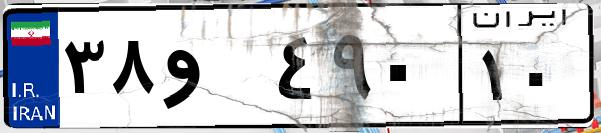0: (385, 28, 445, 110), (525, 38, 570, 115)
1: (475, 38, 525, 113)
3: (57, 26, 110, 100)
4: (270, 28, 330, 110)
8: (110, 28, 158, 98)
9: (330, 28, 385, 110)
و: (158, 20, 270, 120)
